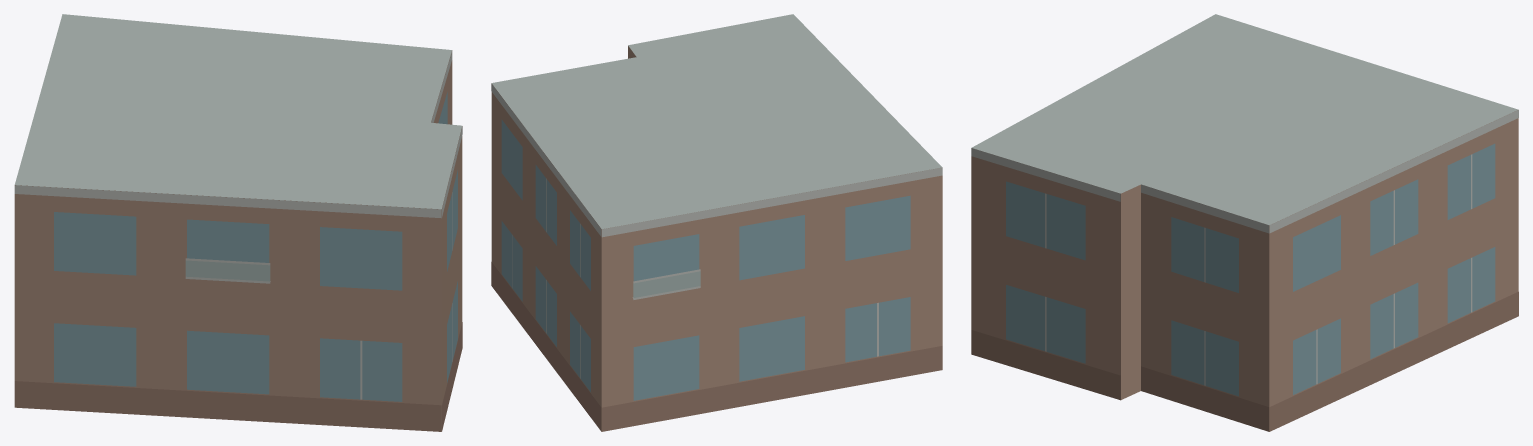
Rendered from survey-upis-32791890.glb.
The picture shows the model from 3 angles, left to right: view 1: azimuth 30°, elevation 25°; view 2: azimuth 150°, elevation 25°; view 3: azimuth 270°, elevation 25°; orthographic projection. The views are drawn at different scales.
Parts seen in each view (by area): view 1: survey-upis-32791890.tmp; view 2: survey-upis-32791890.tmp; view 3: survey-upis-32791890.tmp.
Part boxes in pixels (<box>): survey-upis-32791890.tmp: <box>14,14,462,431</box>; survey-upis-32791890.tmp: <box>491,14,942,431</box>; survey-upis-32791890.tmp: <box>971,14,1518,431</box>.
Bounding box in the file's own units: 13.39 × 6.1 × 14.66.
